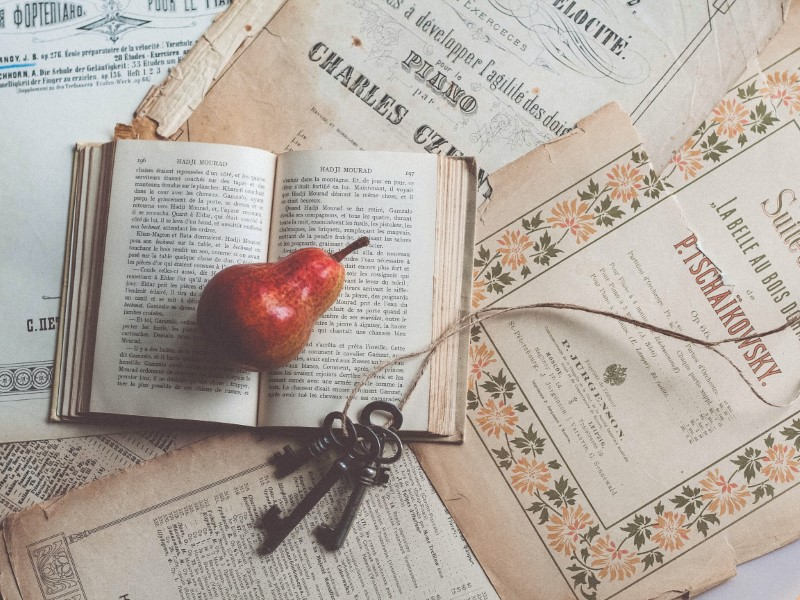key: (250, 401, 413, 557)
